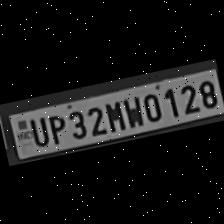0: (138, 90, 164, 124)
1: (158, 84, 180, 120)
2: (175, 80, 200, 116), (83, 100, 107, 136)
3: (61, 106, 88, 142)
8: (193, 75, 219, 111)
M: (101, 97, 125, 133)
P: (44, 110, 68, 146)
U: (24, 114, 49, 148)
W: (120, 92, 144, 130)
